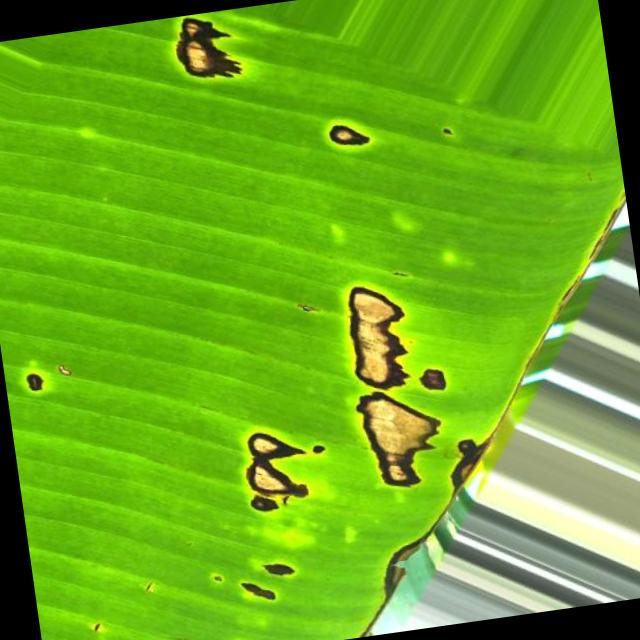Banana_Black_Sigatoka: (216, 243, 502, 604), (148, 0, 397, 172)
